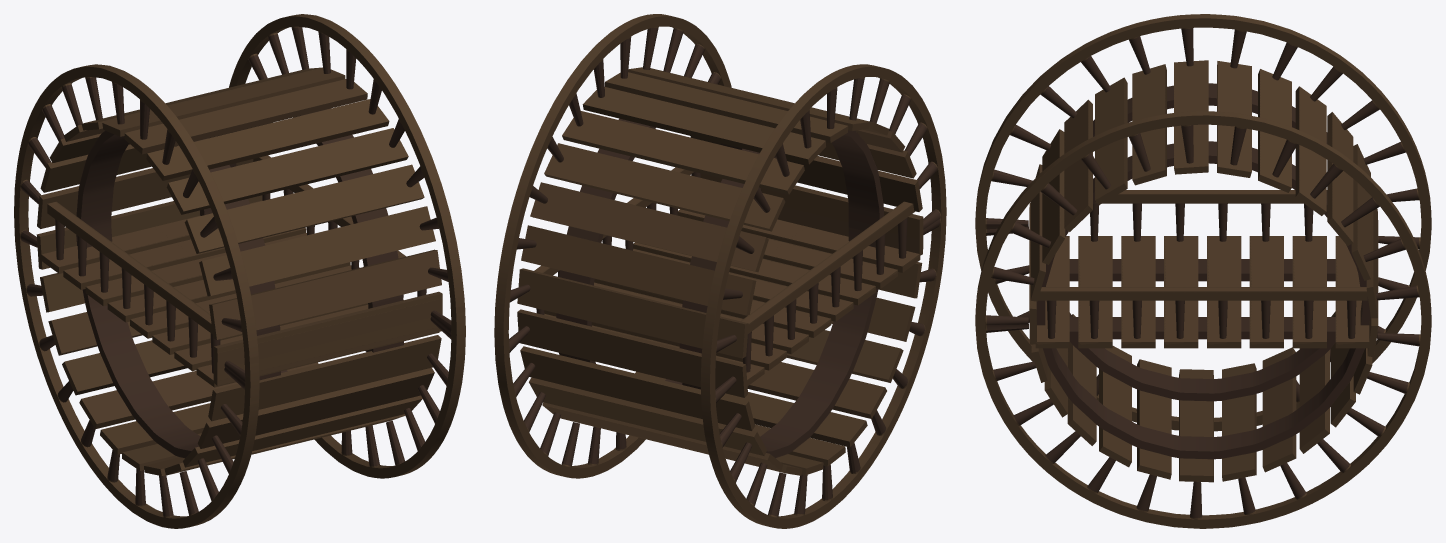
Rendered from bridge.gltf.
3 views of the same model, side by side, from view 1: azimuth 30°, elevation 25°; view 2: azimuth 150°, elevation 25°; view 3: azimuth 270°, elevation 25° (orthographic). The views are drawn at different scales.
Parts seen in each view (by area): view 1: Bridge, FlatBridge; view 2: Bridge, FlatBridge; view 3: Bridge, FlatBridge.
Boxes of the visible parts, x1,y1,x2,y2 form: Bridge: (14, 14, 465, 528); FlatBridge: (41, 155, 439, 387); Bridge: (494, 14, 946, 528); FlatBridge: (534, 167, 920, 385); Bridge: (975, 14, 1431, 528); FlatBridge: (1035, 190, 1369, 348).
Bounding box in the file's own units: 1.46 × 2.66 × 2.66.
1 material, 1 textured.
